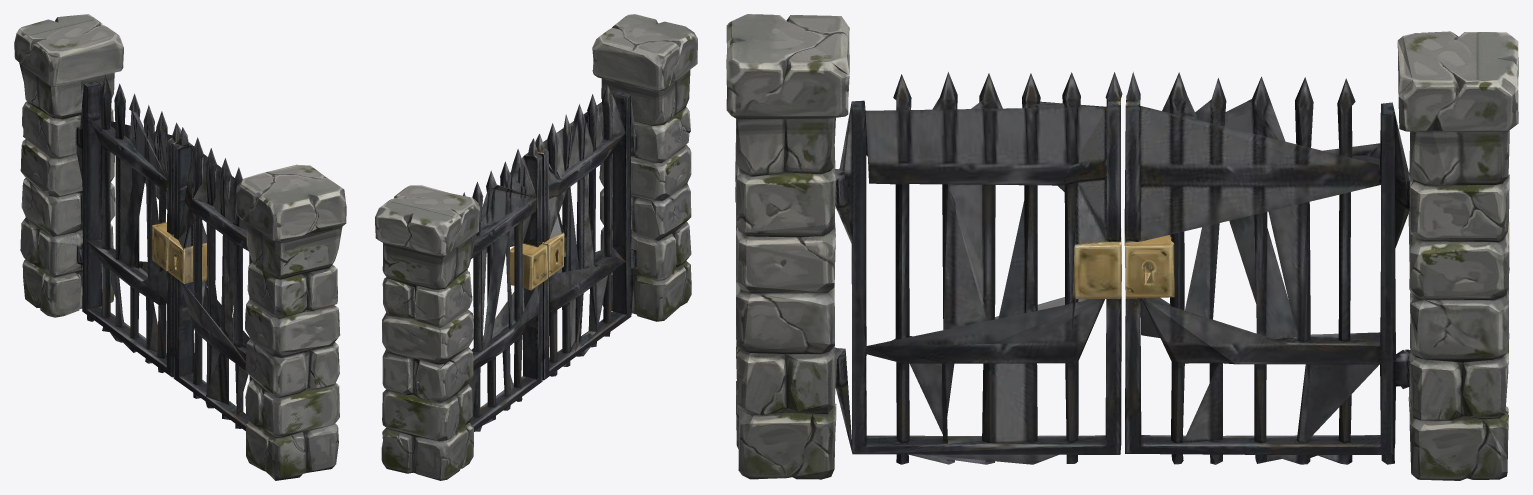
The model's file is vgate_3d.glb.
3 views of the same model, side by side, from view 1: azimuth 30°, elevation 25°; view 2: azimuth 150°, elevation 25°; view 3: azimuth 270°, elevation 25° (orthographic). The views are drawn at different scales.
Visible parts, largest first — view 1: Mesh_0; view 2: Mesh_0; view 3: Mesh_0.
Boxes of the visible parts, x1,y1,x2,y2 form: Mesh_0: [14, 14, 346, 480]; Mesh_0: [375, 14, 697, 480]; Mesh_0: [726, 14, 1518, 480].
Bounding box in the file's own units: 0.4914 × 1.77 × 3.
Materials: 1 (1 with a texture image).
